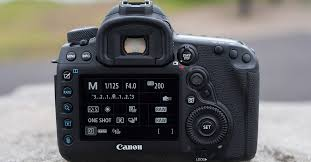camera: (58, 12, 257, 158)
